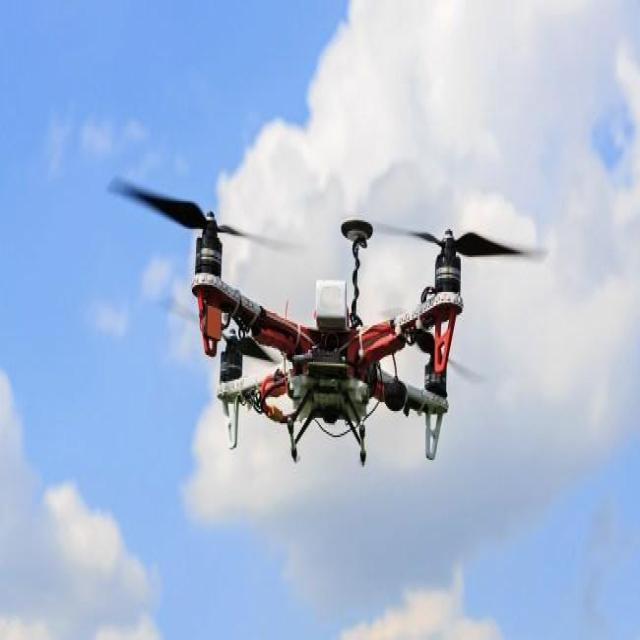drone: (106, 172, 550, 471)
